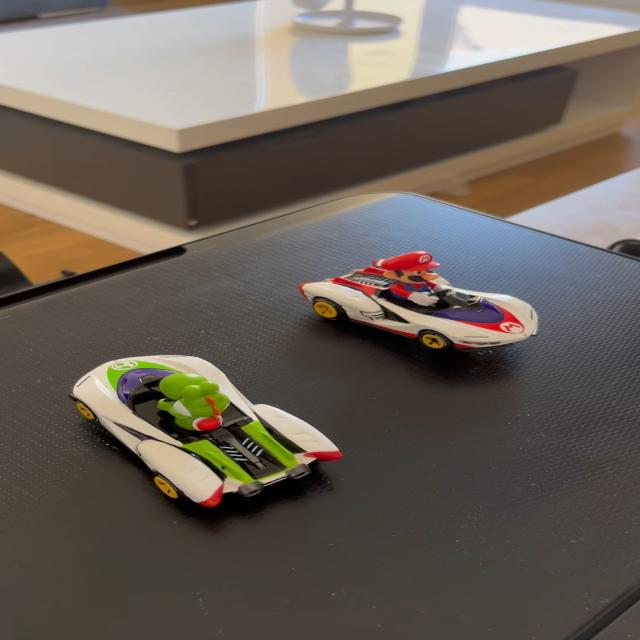mario: (290, 245, 557, 353)
yoshi: (68, 347, 360, 518)
